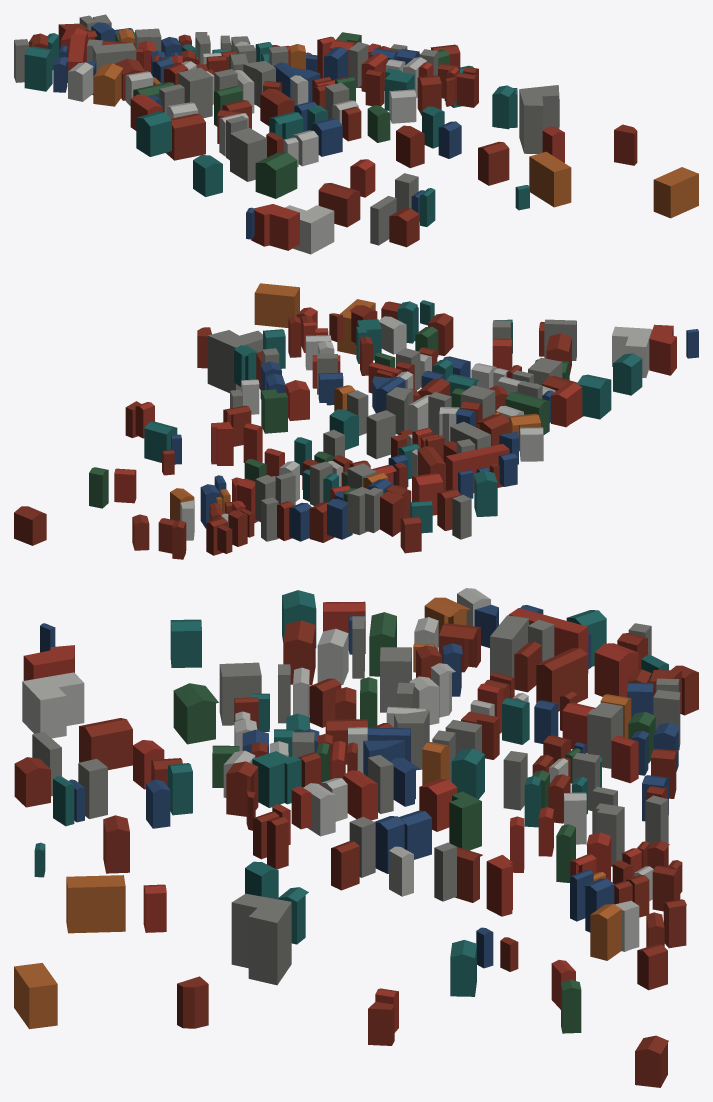
File: near-17-109443-59485.f8280846.glb
3 views of the same model, one above another, from view 1: azimuth 30°, elevation 25°; view 2: azimuth 150°, elevation 25°; view 3: azimuth 270°, elevation 25° (orthographic). The views are drawn at different scales.
Size of the model in its own units: 302 by 105 by 304.
